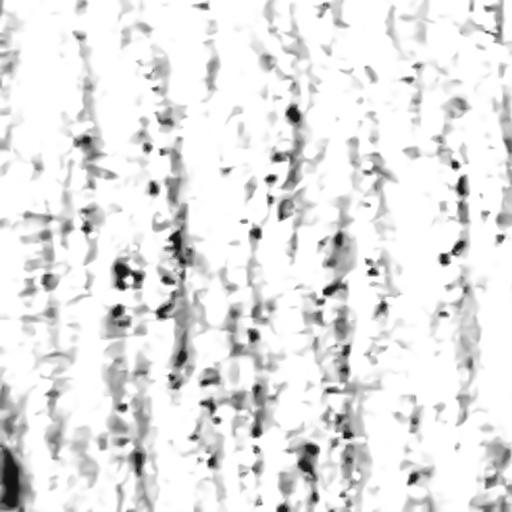egg: (0, 445, 19, 511), (113, 259, 143, 289), (298, 443, 318, 481), (440, 239, 464, 265), (156, 298, 173, 318), (285, 104, 301, 124), (323, 280, 344, 295), (74, 134, 92, 151), (169, 230, 181, 255), (132, 450, 144, 475), (200, 398, 215, 413), (456, 175, 467, 195), (175, 349, 186, 365), (111, 304, 123, 317), (81, 222, 91, 234), (273, 152, 286, 161), (265, 174, 276, 184)
